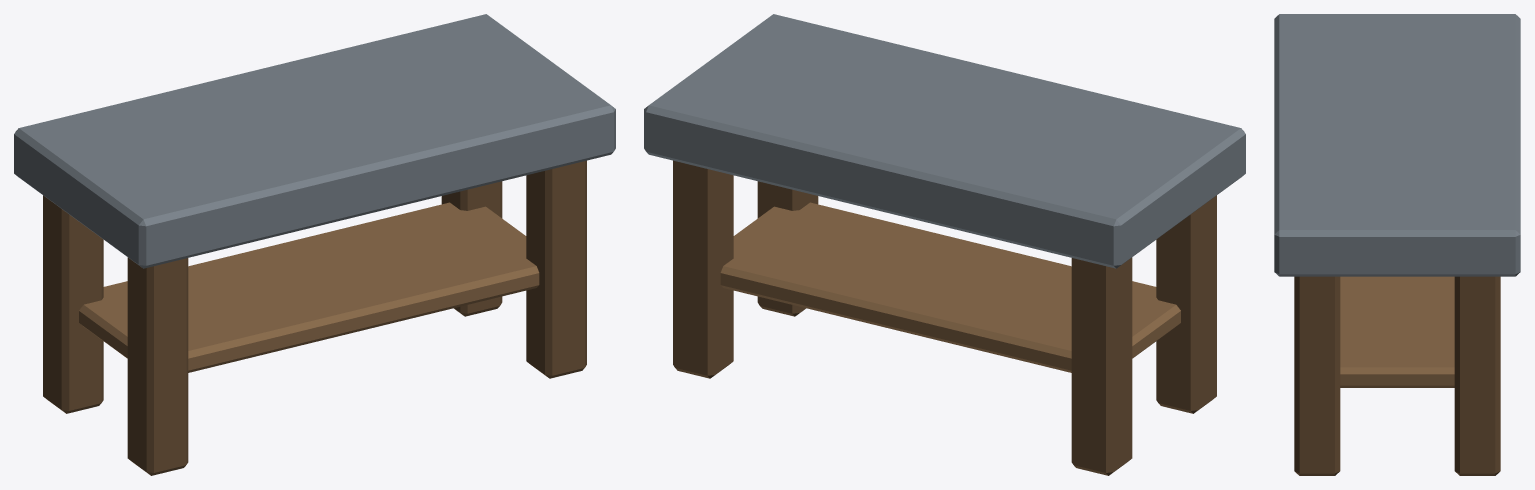
Rendered from town_workbench.lod1.glb.
3 renders of one model, left to right at view 1: azimuth 30°, elevation 25°; view 2: azimuth 150°, elevation 25°; view 3: azimuth 270°, elevation 25°, orthographic. The views are drawn at different scales.
Size of the model in its own units: 1.82 by 0.98 by 0.86.
